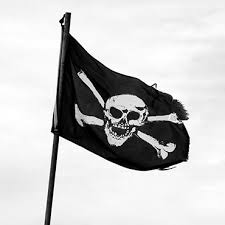Jolly Roger Flag: (45, 26, 195, 174)
